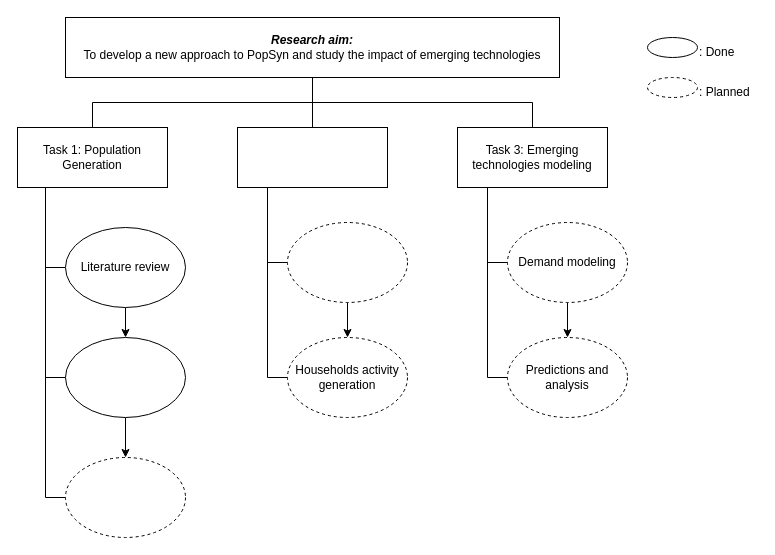
Some shapes in this 775 by 555 pixel diagram are drawn without their labels. The box of each missing label's shape, as (x1, y1, x2, y2) in pixels:
Connecting households and persons: (64, 456, 186, 538)
Generating households and persons: (64, 336, 186, 418)
Individual activity generation: (286, 222, 408, 302)
Task 2: Activity generation: (236, 126, 388, 188)
